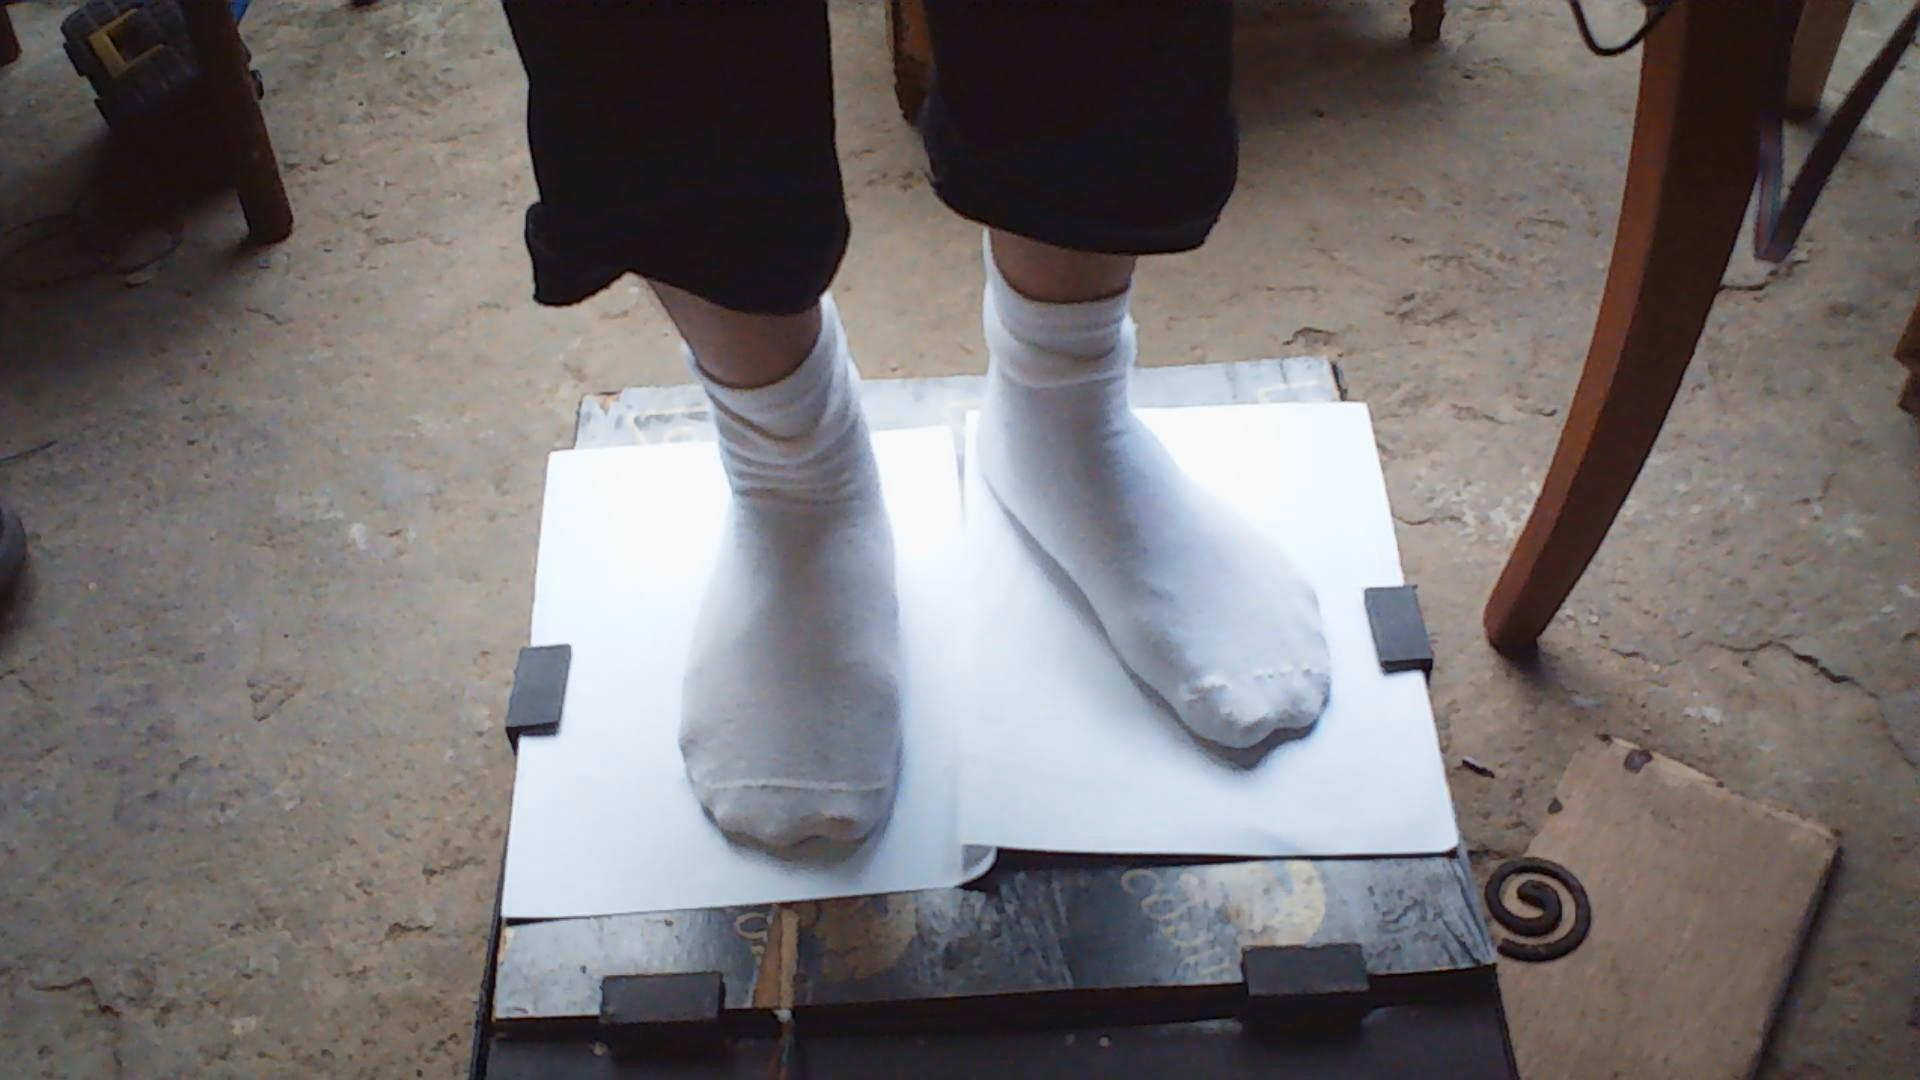white_socks: (927, 210, 1390, 785), (580, 257, 971, 893)
